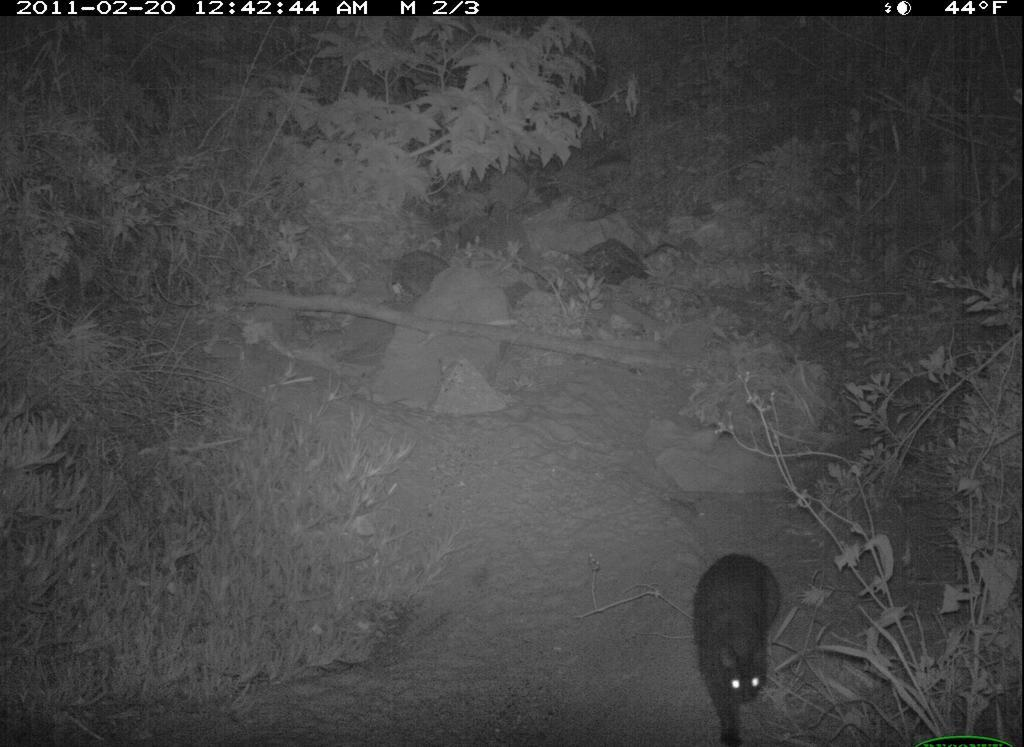cat: (689, 548, 785, 747)
